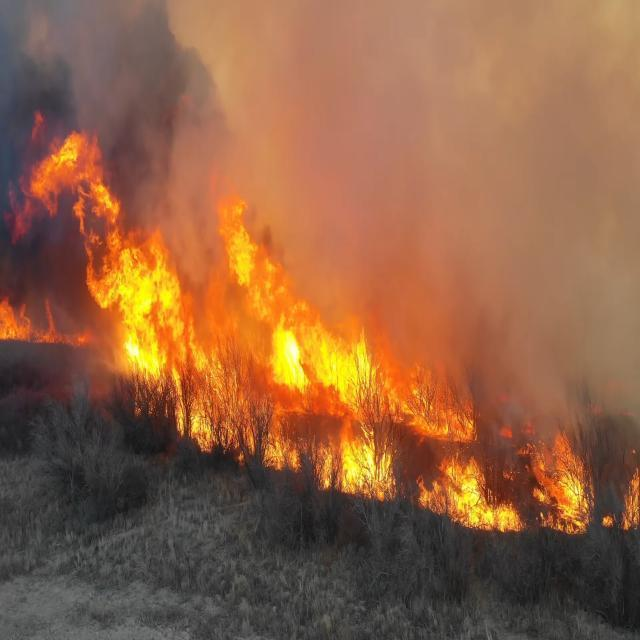Fire: (230, 214, 305, 375), (106, 236, 187, 381), (269, 418, 400, 491), (264, 328, 369, 416), (176, 350, 261, 452), (424, 460, 512, 534), (534, 443, 602, 531), (408, 363, 477, 446), (327, 420, 396, 493)
Smoke: (0, 0, 192, 181)
